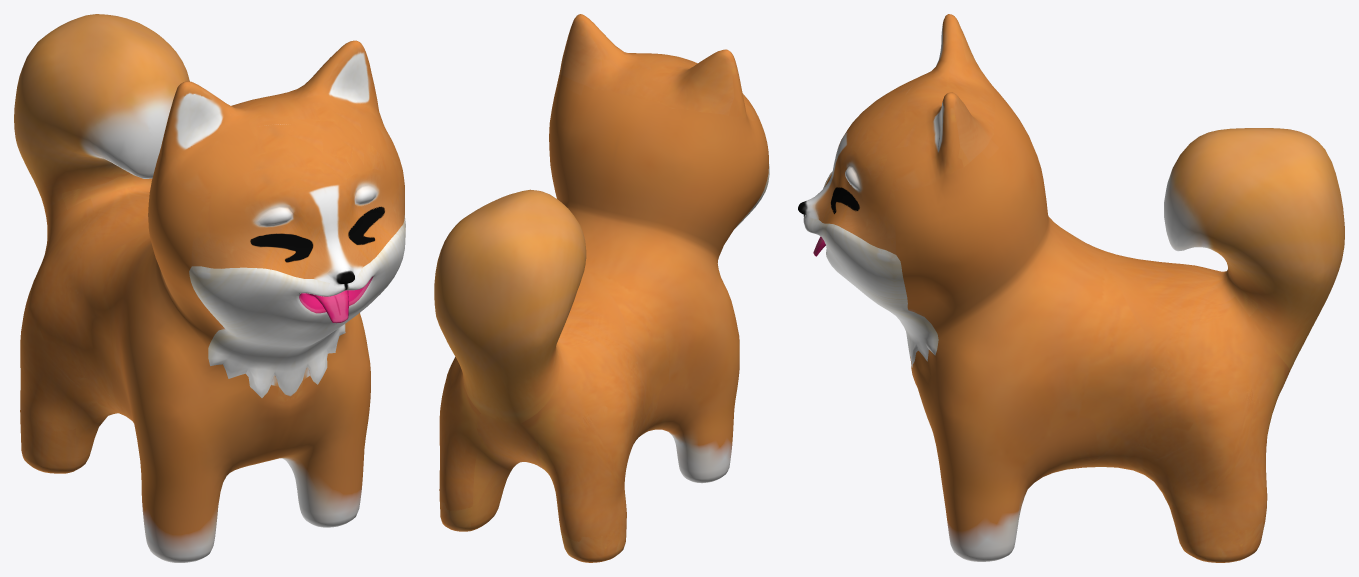
The model's file is perro2.fbx.
3 views of the same model, side by side, from view 1: azimuth 30°, elevation 25°; view 2: azimuth 150°, elevation 25°; view 3: azimuth 270°, elevation 25° (orthographic). The views are drawn at different scales.
Parts seen in each view (by area): view 1: Shiba_inu; view 2: Shiba_inu; view 3: Shiba_inu.
Part boxes in pixels (box(x1,y1,x2,y2)): Shiba_inu: box(14, 14, 405, 562); Shiba_inu: box(434, 14, 769, 562); Shiba_inu: box(798, 14, 1344, 562).
Bounding box in the file's own units: 0.3837 × 0.7563 × 0.8049.
1 material, 1 textured.
